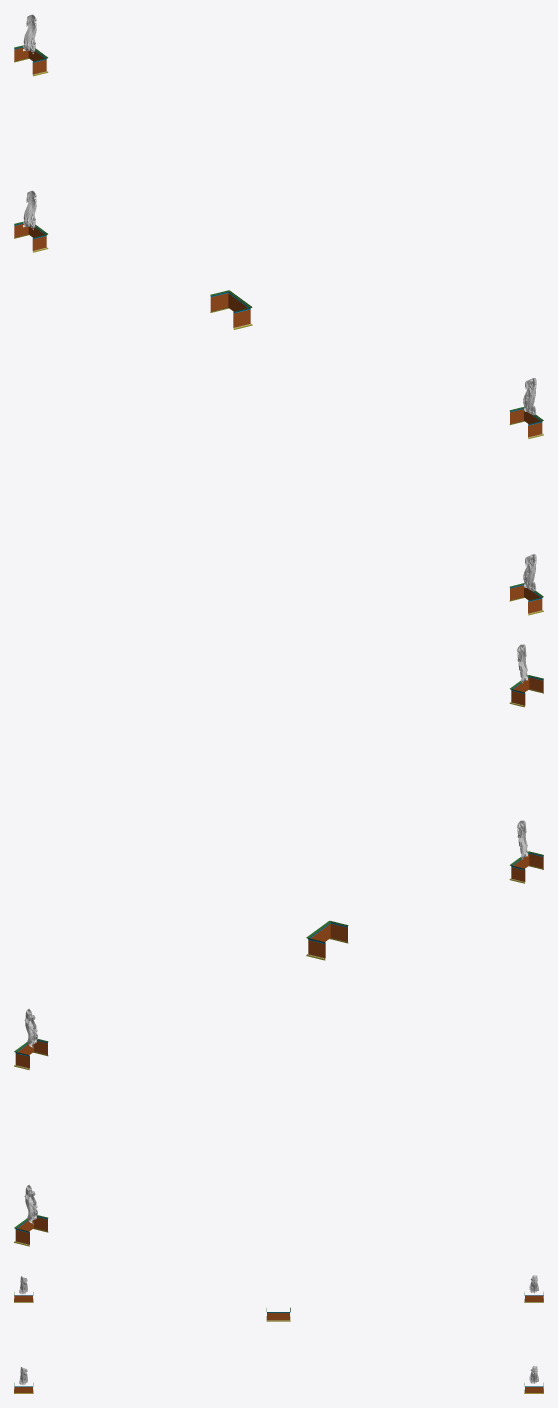
The model's file is Podium_Statue_Michael.fbx.
3 renders of one model, top to bottom at view 1: azimuth 30°, elevation 25°; view 2: azimuth 150°, elevation 25°; view 3: azimuth 270°, elevation 25°, orthographic. The views are drawn at different scales.
Parts seen in each view (by area): view 1: Podium_Auguste; view 2: Podium_Auguste; view 3: Podium_Auguste.
Part boxes in pixels (box(x1,y1,x2,y2)): Podium_Auguste: box(210, 290, 252, 329); Podium_Auguste: box(306, 920, 348, 960); Podium_Auguste: box(266, 1307, 290, 1321).
Bounding box in the file's own units: 291 × 952 × 3891.
